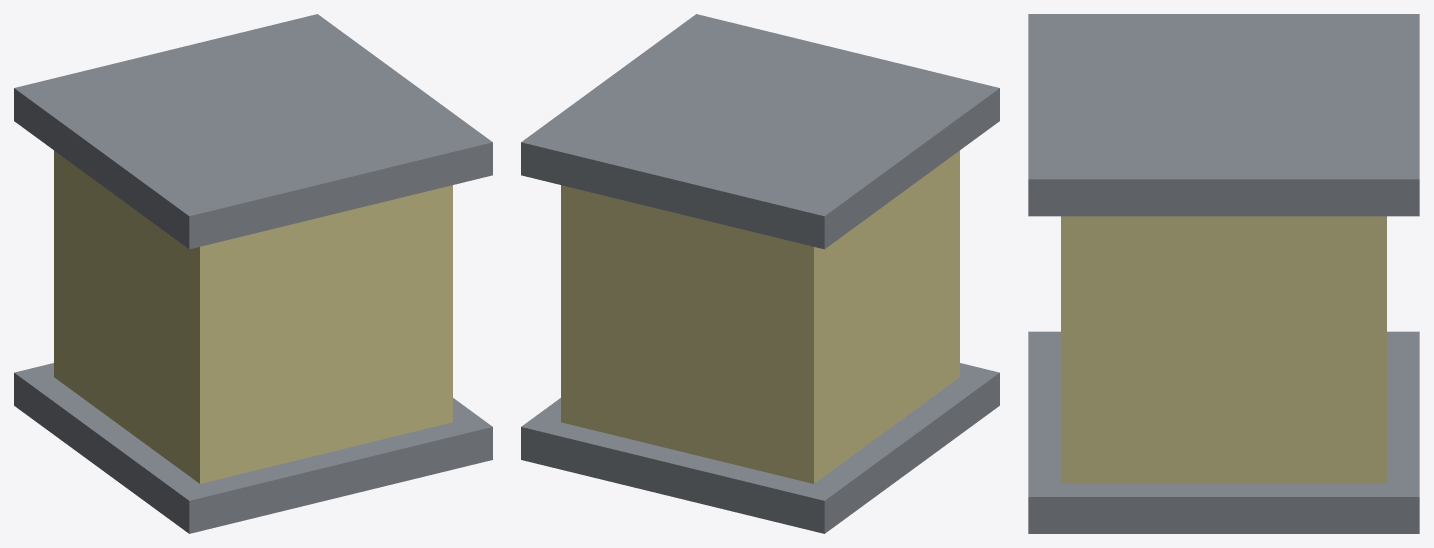
The model's file is logic_gate_lamp_v0.glb.
The picture shows the model from 3 angles, left to right: view 1: azimuth 30°, elevation 25°; view 2: azimuth 150°, elevation 25°; view 3: azimuth 270°, elevation 25°; orthographic projection. The views are drawn at different scales.
Parts seen in each view (by area): view 1: logic_gate_lamp_v0; view 2: logic_gate_lamp_v0; view 3: logic_gate_lamp_v0.
Part boxes in pixels (box(x1,y1,x2,y2)): logic_gate_lamp_v0: box(14, 14, 492, 533); logic_gate_lamp_v0: box(521, 14, 999, 533); logic_gate_lamp_v0: box(1028, 14, 1419, 533).
Size of the model in its own units: 0.48 by 0.48 by 0.48.
